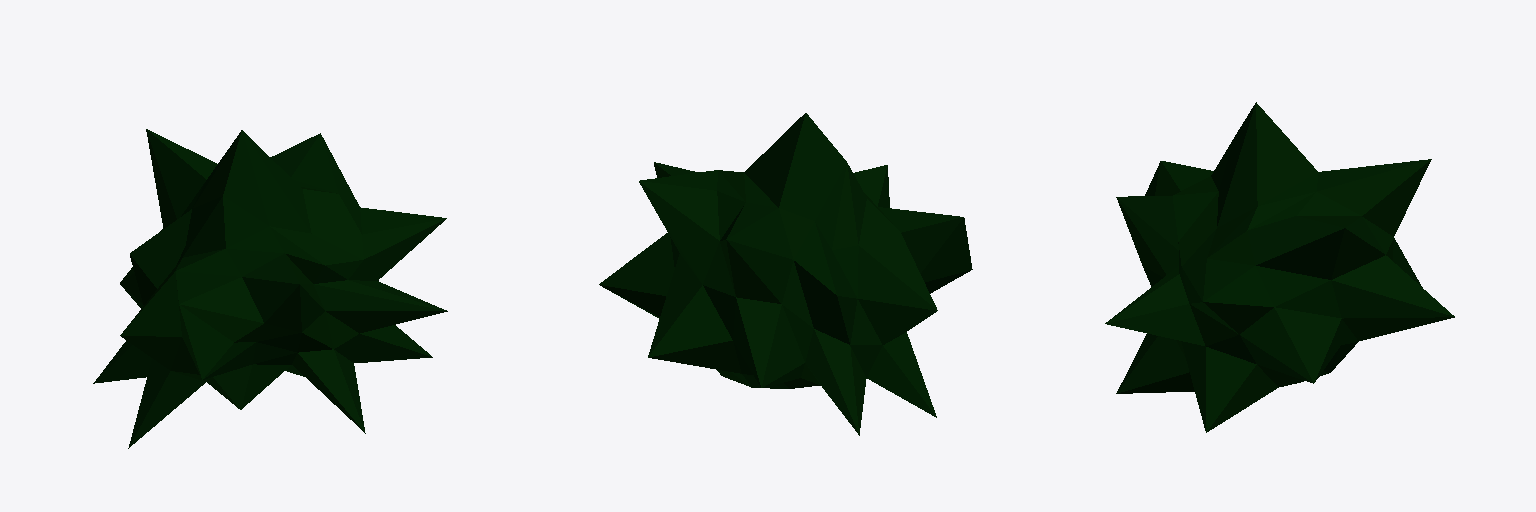
Rendered from bush1.obj.
3 renders of one model, left to right at view 1: azimuth 30°, elevation 25°; view 2: azimuth 150°, elevation 25°; view 3: azimuth 270°, elevation 25°, orthographic.
Parts seen in each view (by area): view 1: Cube.251; view 2: Cube.251; view 3: Cube.251.
Boxes of the visible parts, <box> form: Cube.251: <box>93,129,447,448</box>; Cube.251: <box>599,113,972,435</box>; Cube.251: <box>1105,102,1454,432</box>.
Bounding box in the file's own units: 19.52 × 17.21 × 19.37.